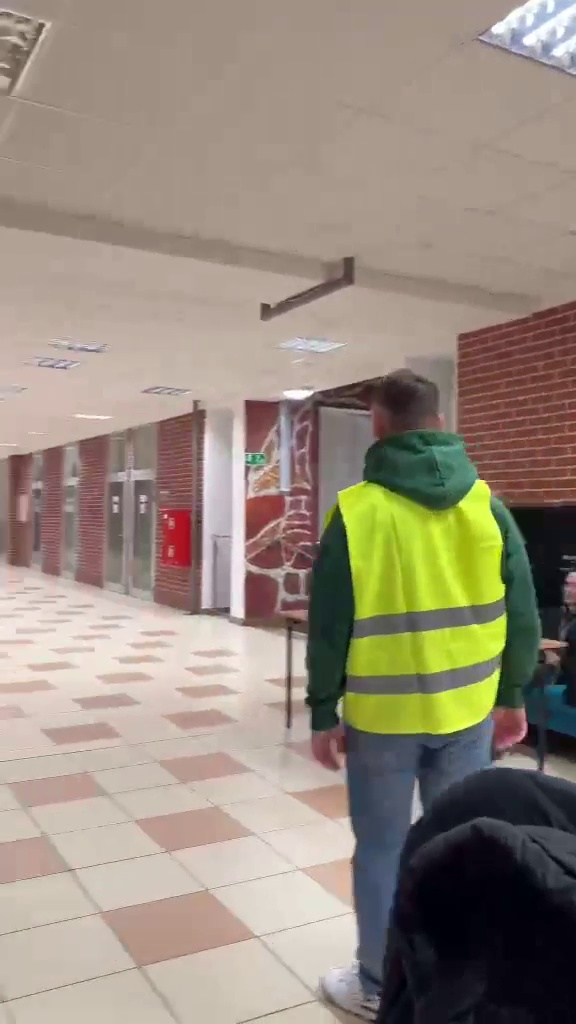vest: (311, 367, 541, 1001)
